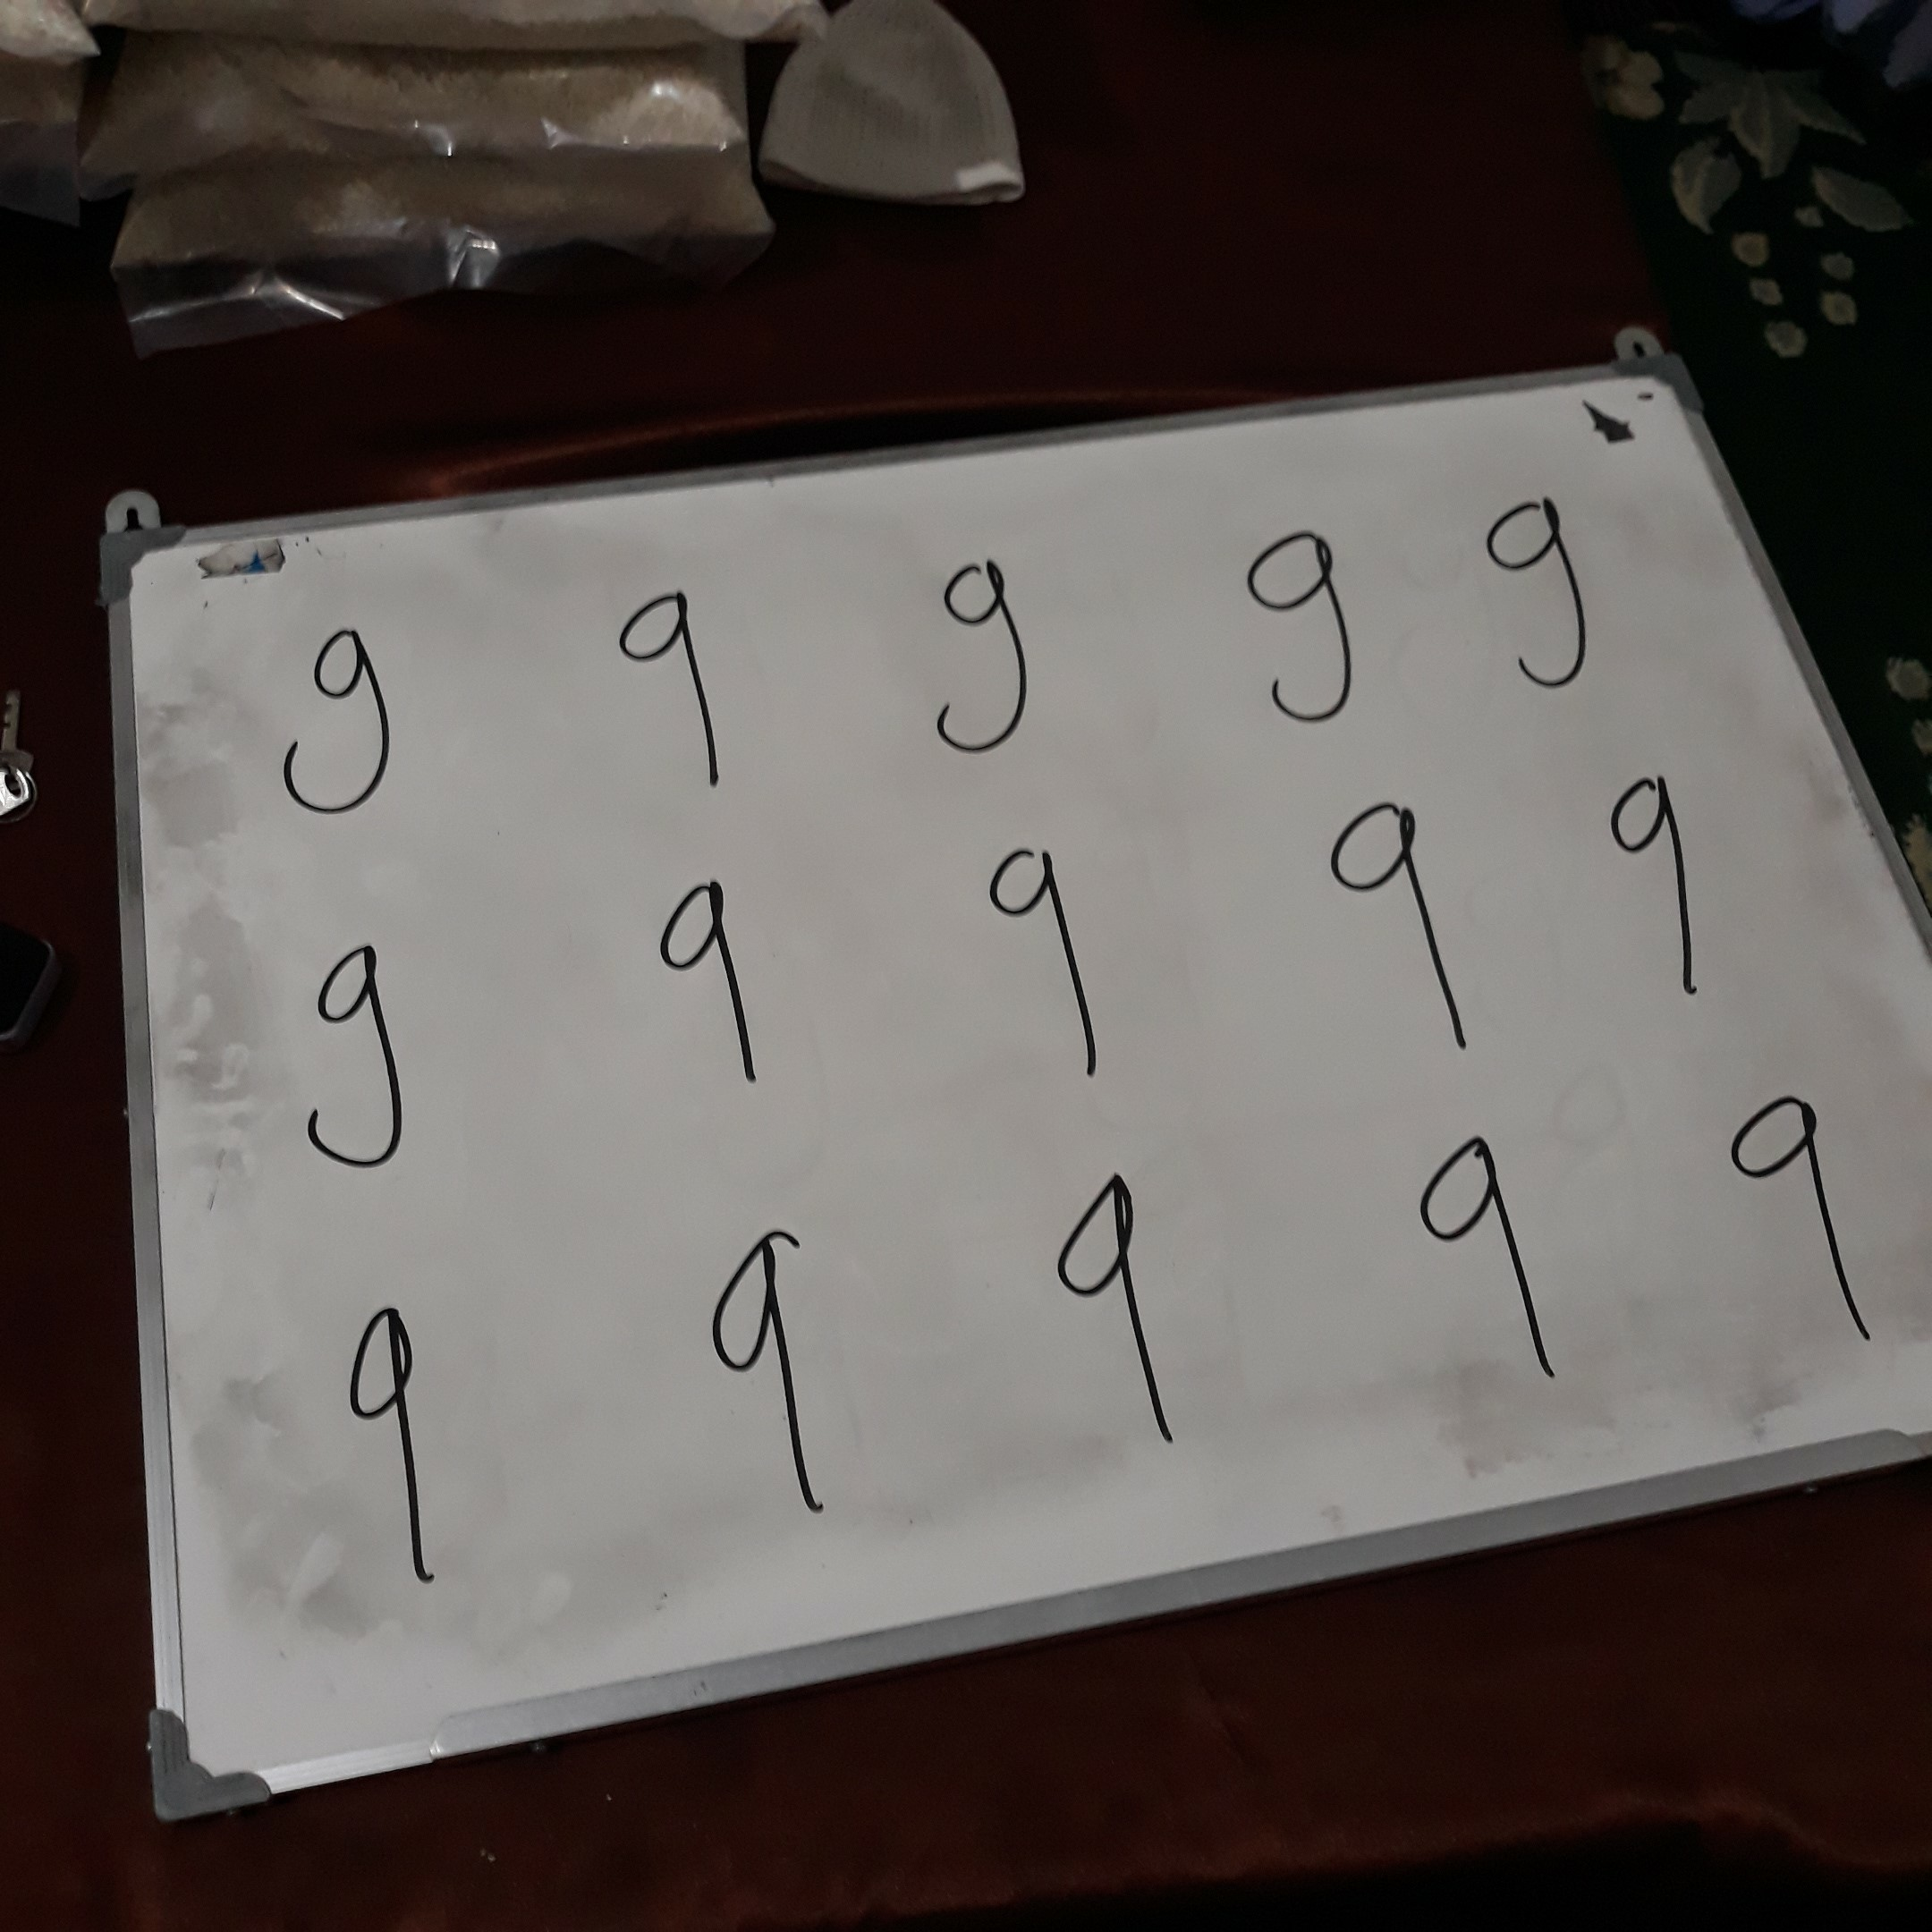num9: (1402, 1116, 1592, 1393), (1038, 1159, 1214, 1460), (696, 1217, 861, 1529), (1715, 1080, 1899, 1352), (1316, 790, 1486, 1065), (319, 1300, 470, 1602), (256, 612, 425, 834), (598, 579, 750, 811), (979, 836, 1113, 1091), (297, 919, 423, 1182), (653, 866, 787, 1100), (1592, 753, 1715, 1009), (923, 534, 1042, 772), (1241, 513, 1368, 727), (1476, 486, 1603, 694)
